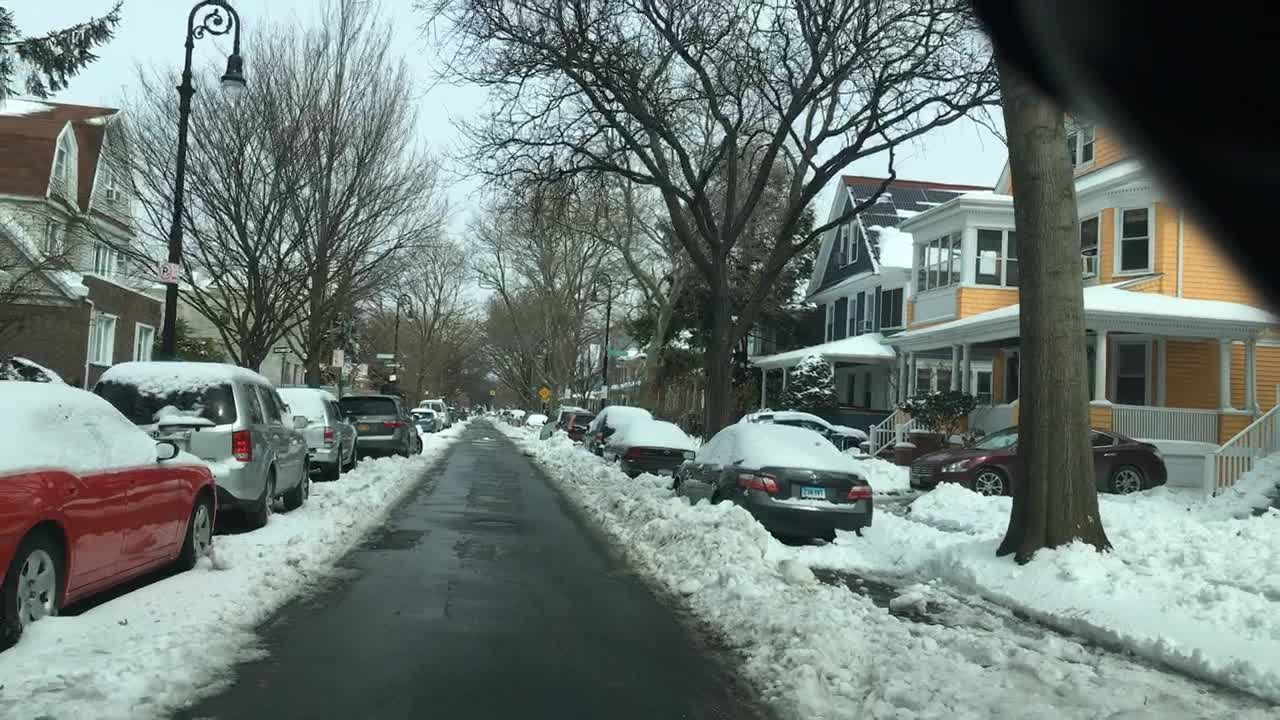car: (1, 358, 217, 645), (93, 358, 310, 523), (676, 424, 872, 541), (908, 420, 1170, 500), (275, 382, 359, 482), (342, 391, 423, 464), (740, 406, 862, 451), (603, 418, 697, 475), (583, 404, 657, 451), (537, 404, 586, 439), (556, 412, 590, 444), (421, 399, 449, 425), (409, 409, 443, 429), (506, 409, 526, 424), (449, 407, 462, 420), (498, 408, 510, 418)
traffic sign: (158, 260, 180, 286), (331, 348, 343, 368), (537, 382, 550, 399), (604, 348, 628, 357), (274, 345, 294, 353), (382, 363, 403, 368), (376, 353, 394, 358), (387, 377, 398, 385)
